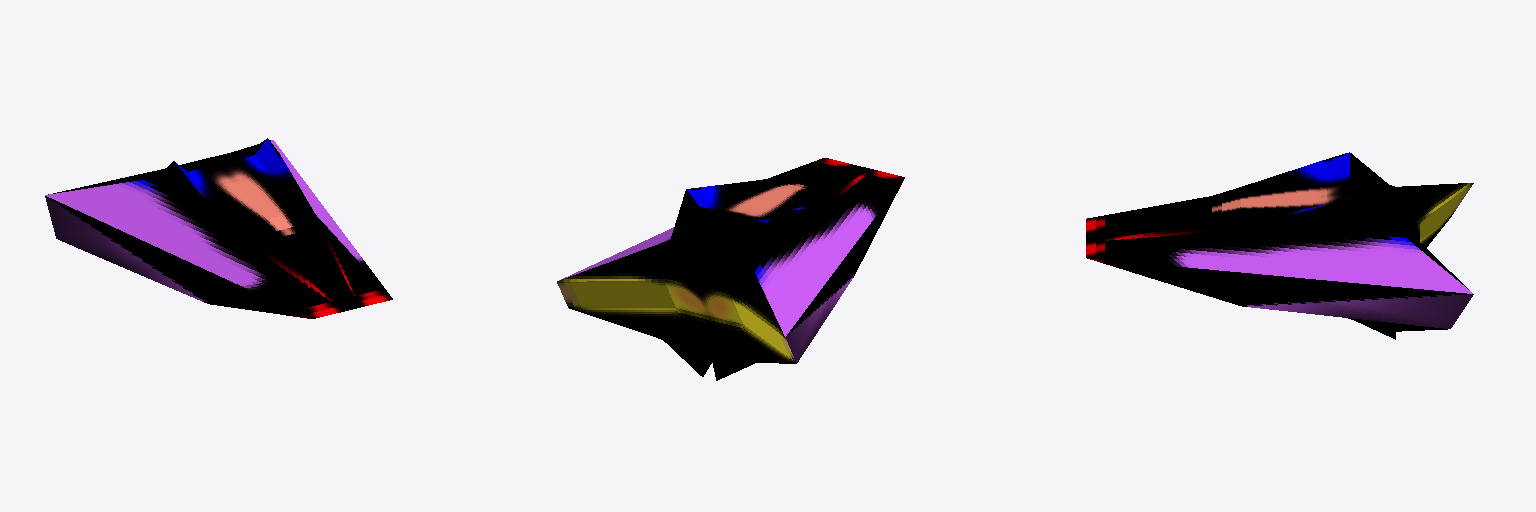
3 renders of one model, left to right at view 1: azimuth 30°, elevation 25°; view 2: azimuth 150°, elevation 25°; view 3: azimuth 270°, elevation 25°, orthographic.
Parts seen in each view (by area): view 1: Cube; view 2: Cube; view 3: Cube.
Boxes of the visible parts, <box> form: Cube: <box>45,138,392,318</box>; Cube: <box>557,158,904,380</box>; Cube: <box>1086,152,1473,339</box>.
Bounding box in the file's own units: 3.4 × 2.3 × 5.
1 materials, 1 textured.